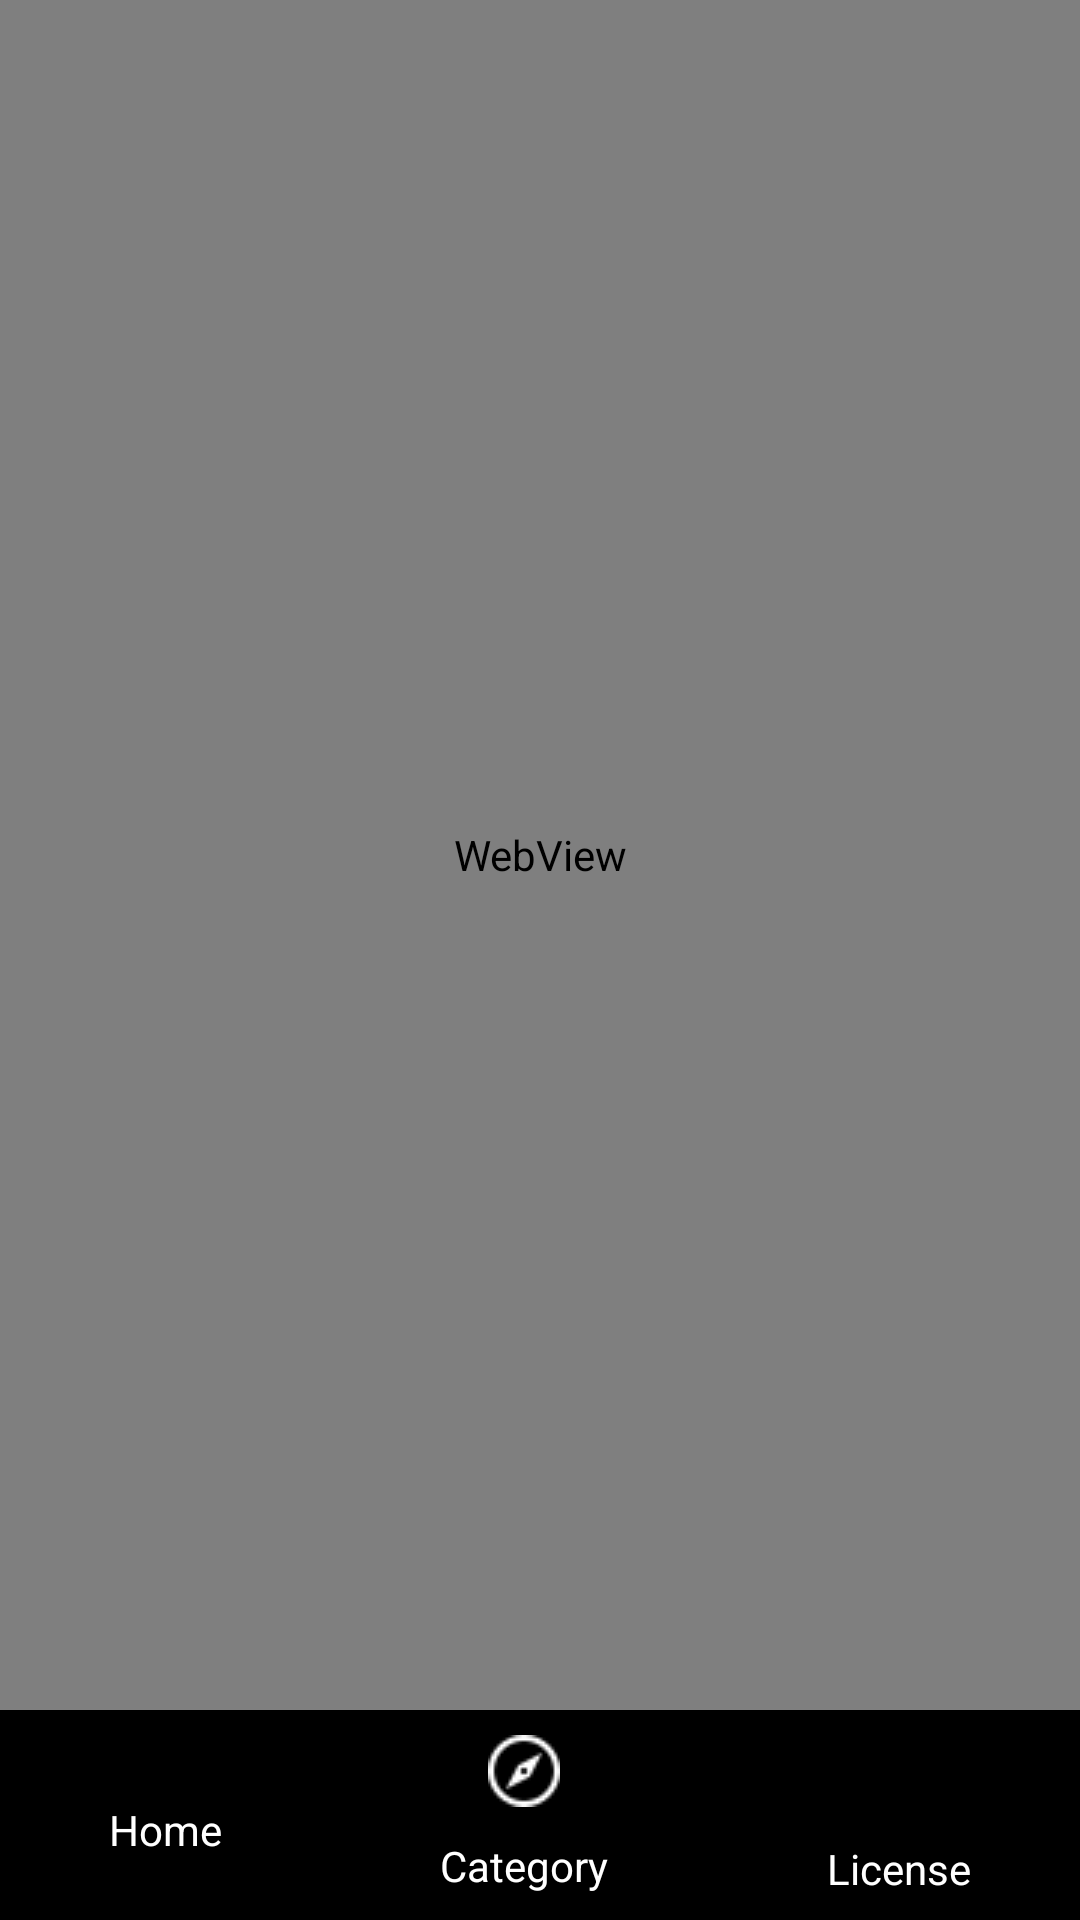

Icons on this 1080px×1920px Android screen, each with its box as (x1, y1, x2, y2):
compass: (488, 1735, 560, 1807)
